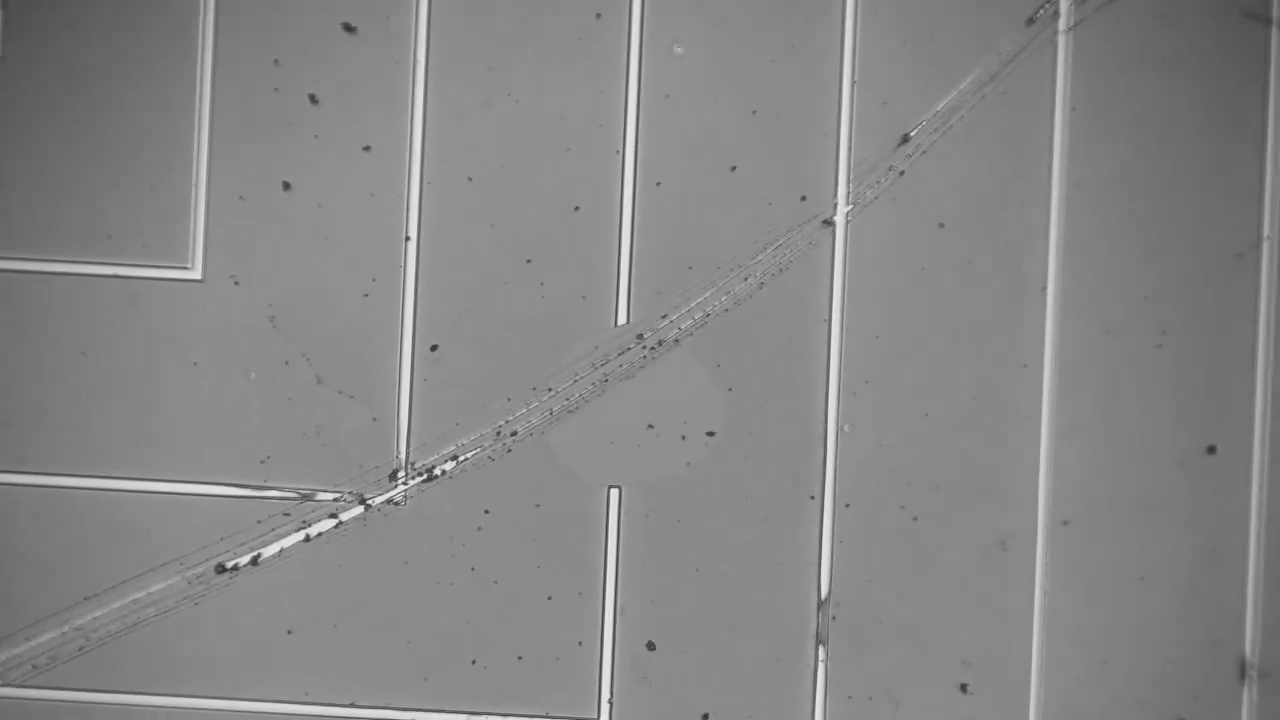gray_line: (801, 574, 843, 671), (1228, 645, 1272, 705)
open: (596, 303, 641, 504)
scratch: (406, 15, 1059, 485), (0, 483, 398, 687)
